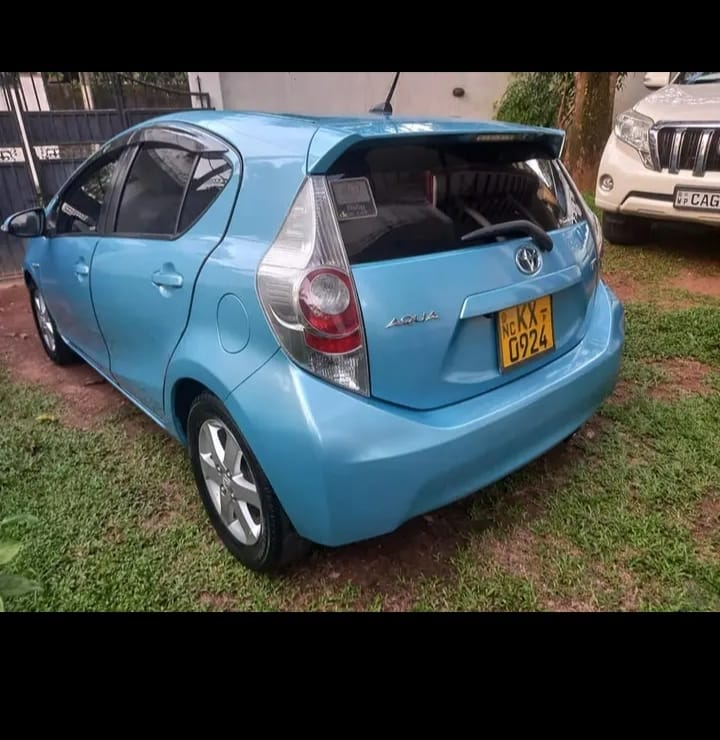number_plate: (493, 295, 560, 372)
